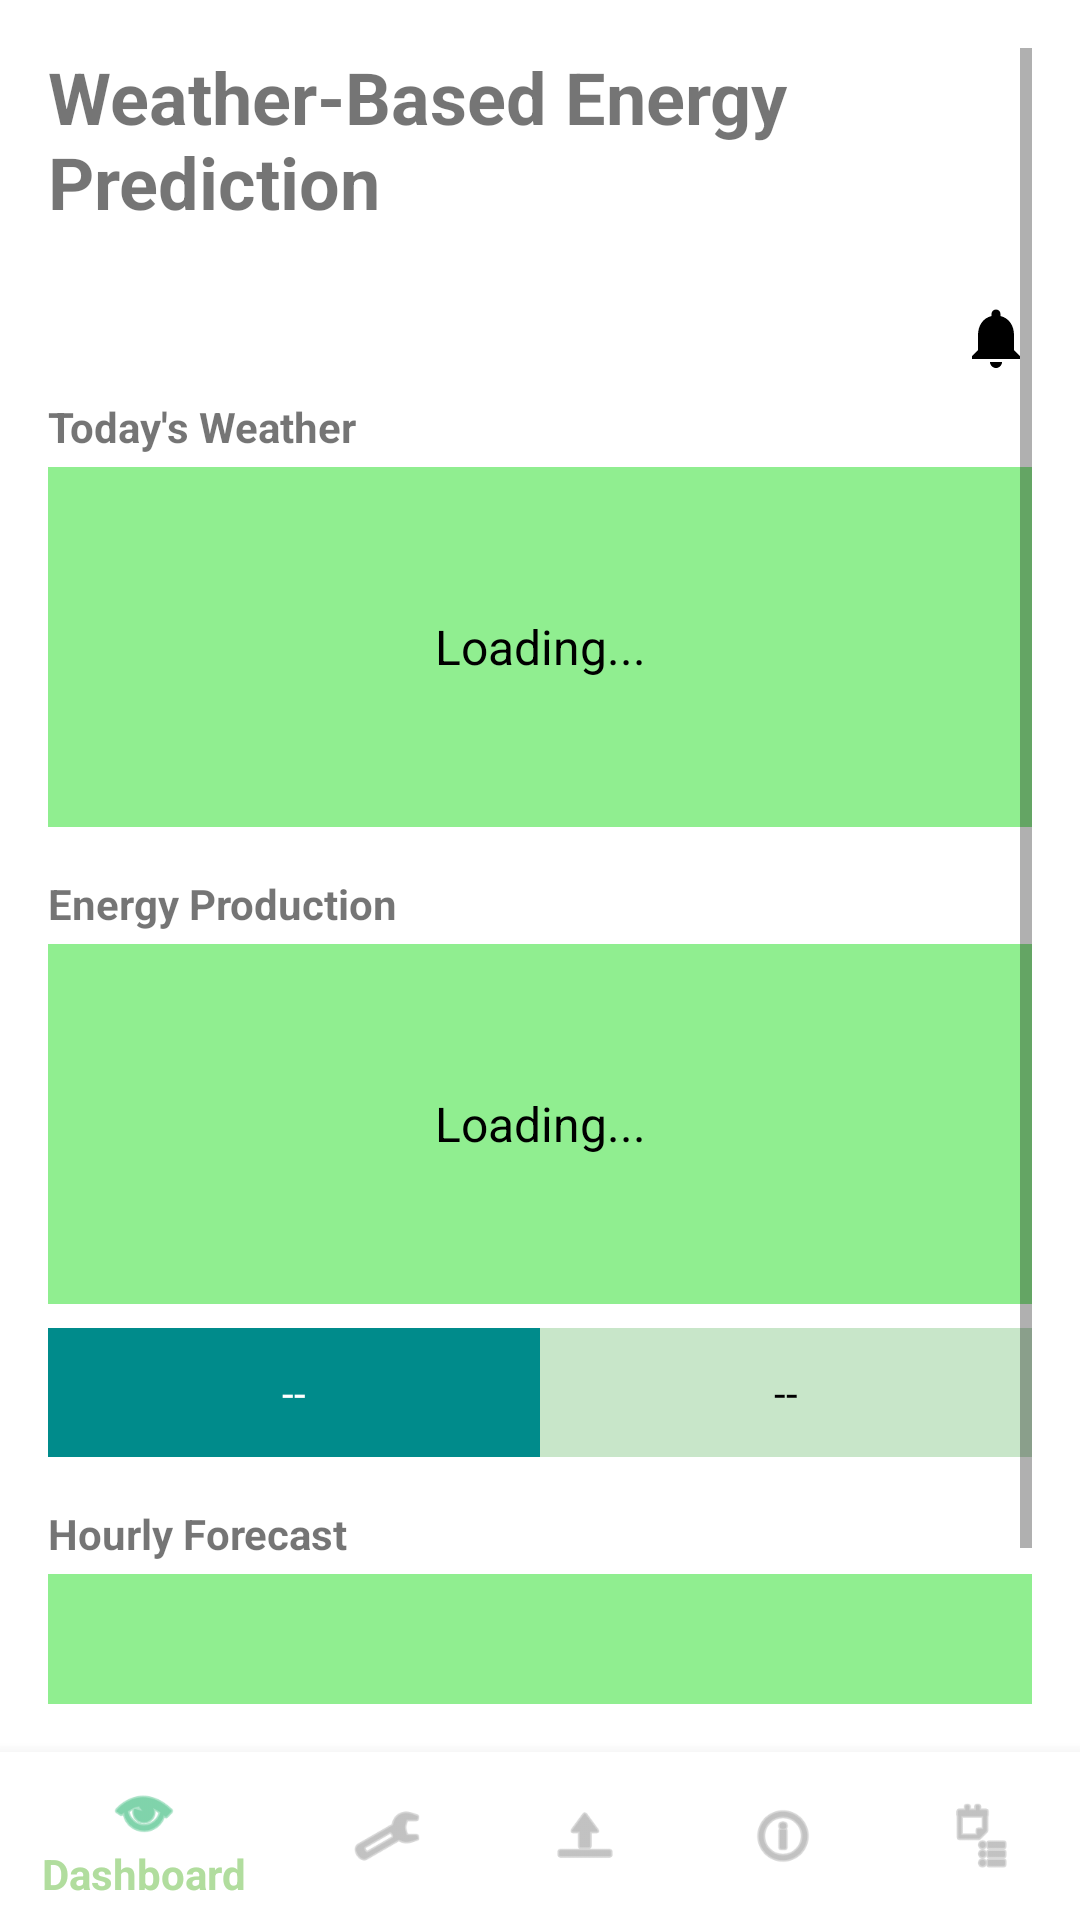

Icon click points for this 1080px×1920px phone screenshot, format (x,y):
Notifications: (1002,338)
